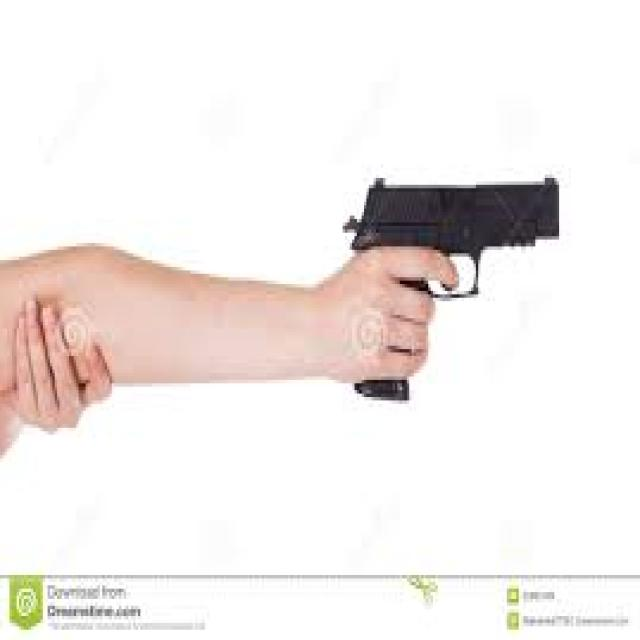gun: (342, 168, 562, 407)
